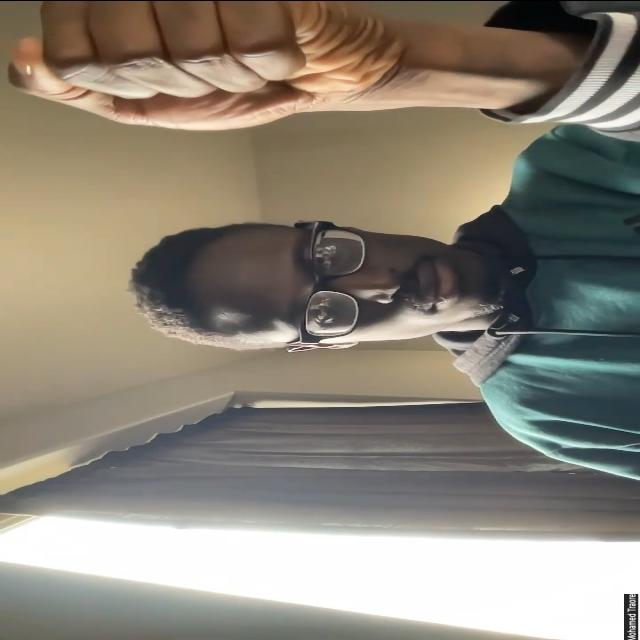Rock: (2, 0, 404, 131)
